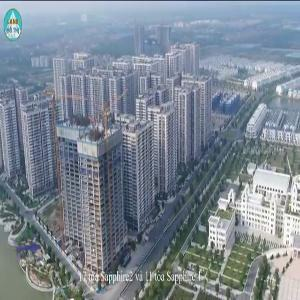drone: (10, 224, 58, 272)
